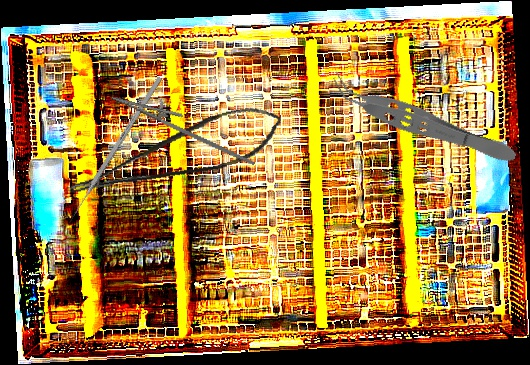Micro Scissor: (60, 98, 290, 202)
Needle Holder: (105, 83, 265, 167)
Pusher: (66, 75, 163, 225)
Tissue Forceps: (324, 70, 522, 172)
